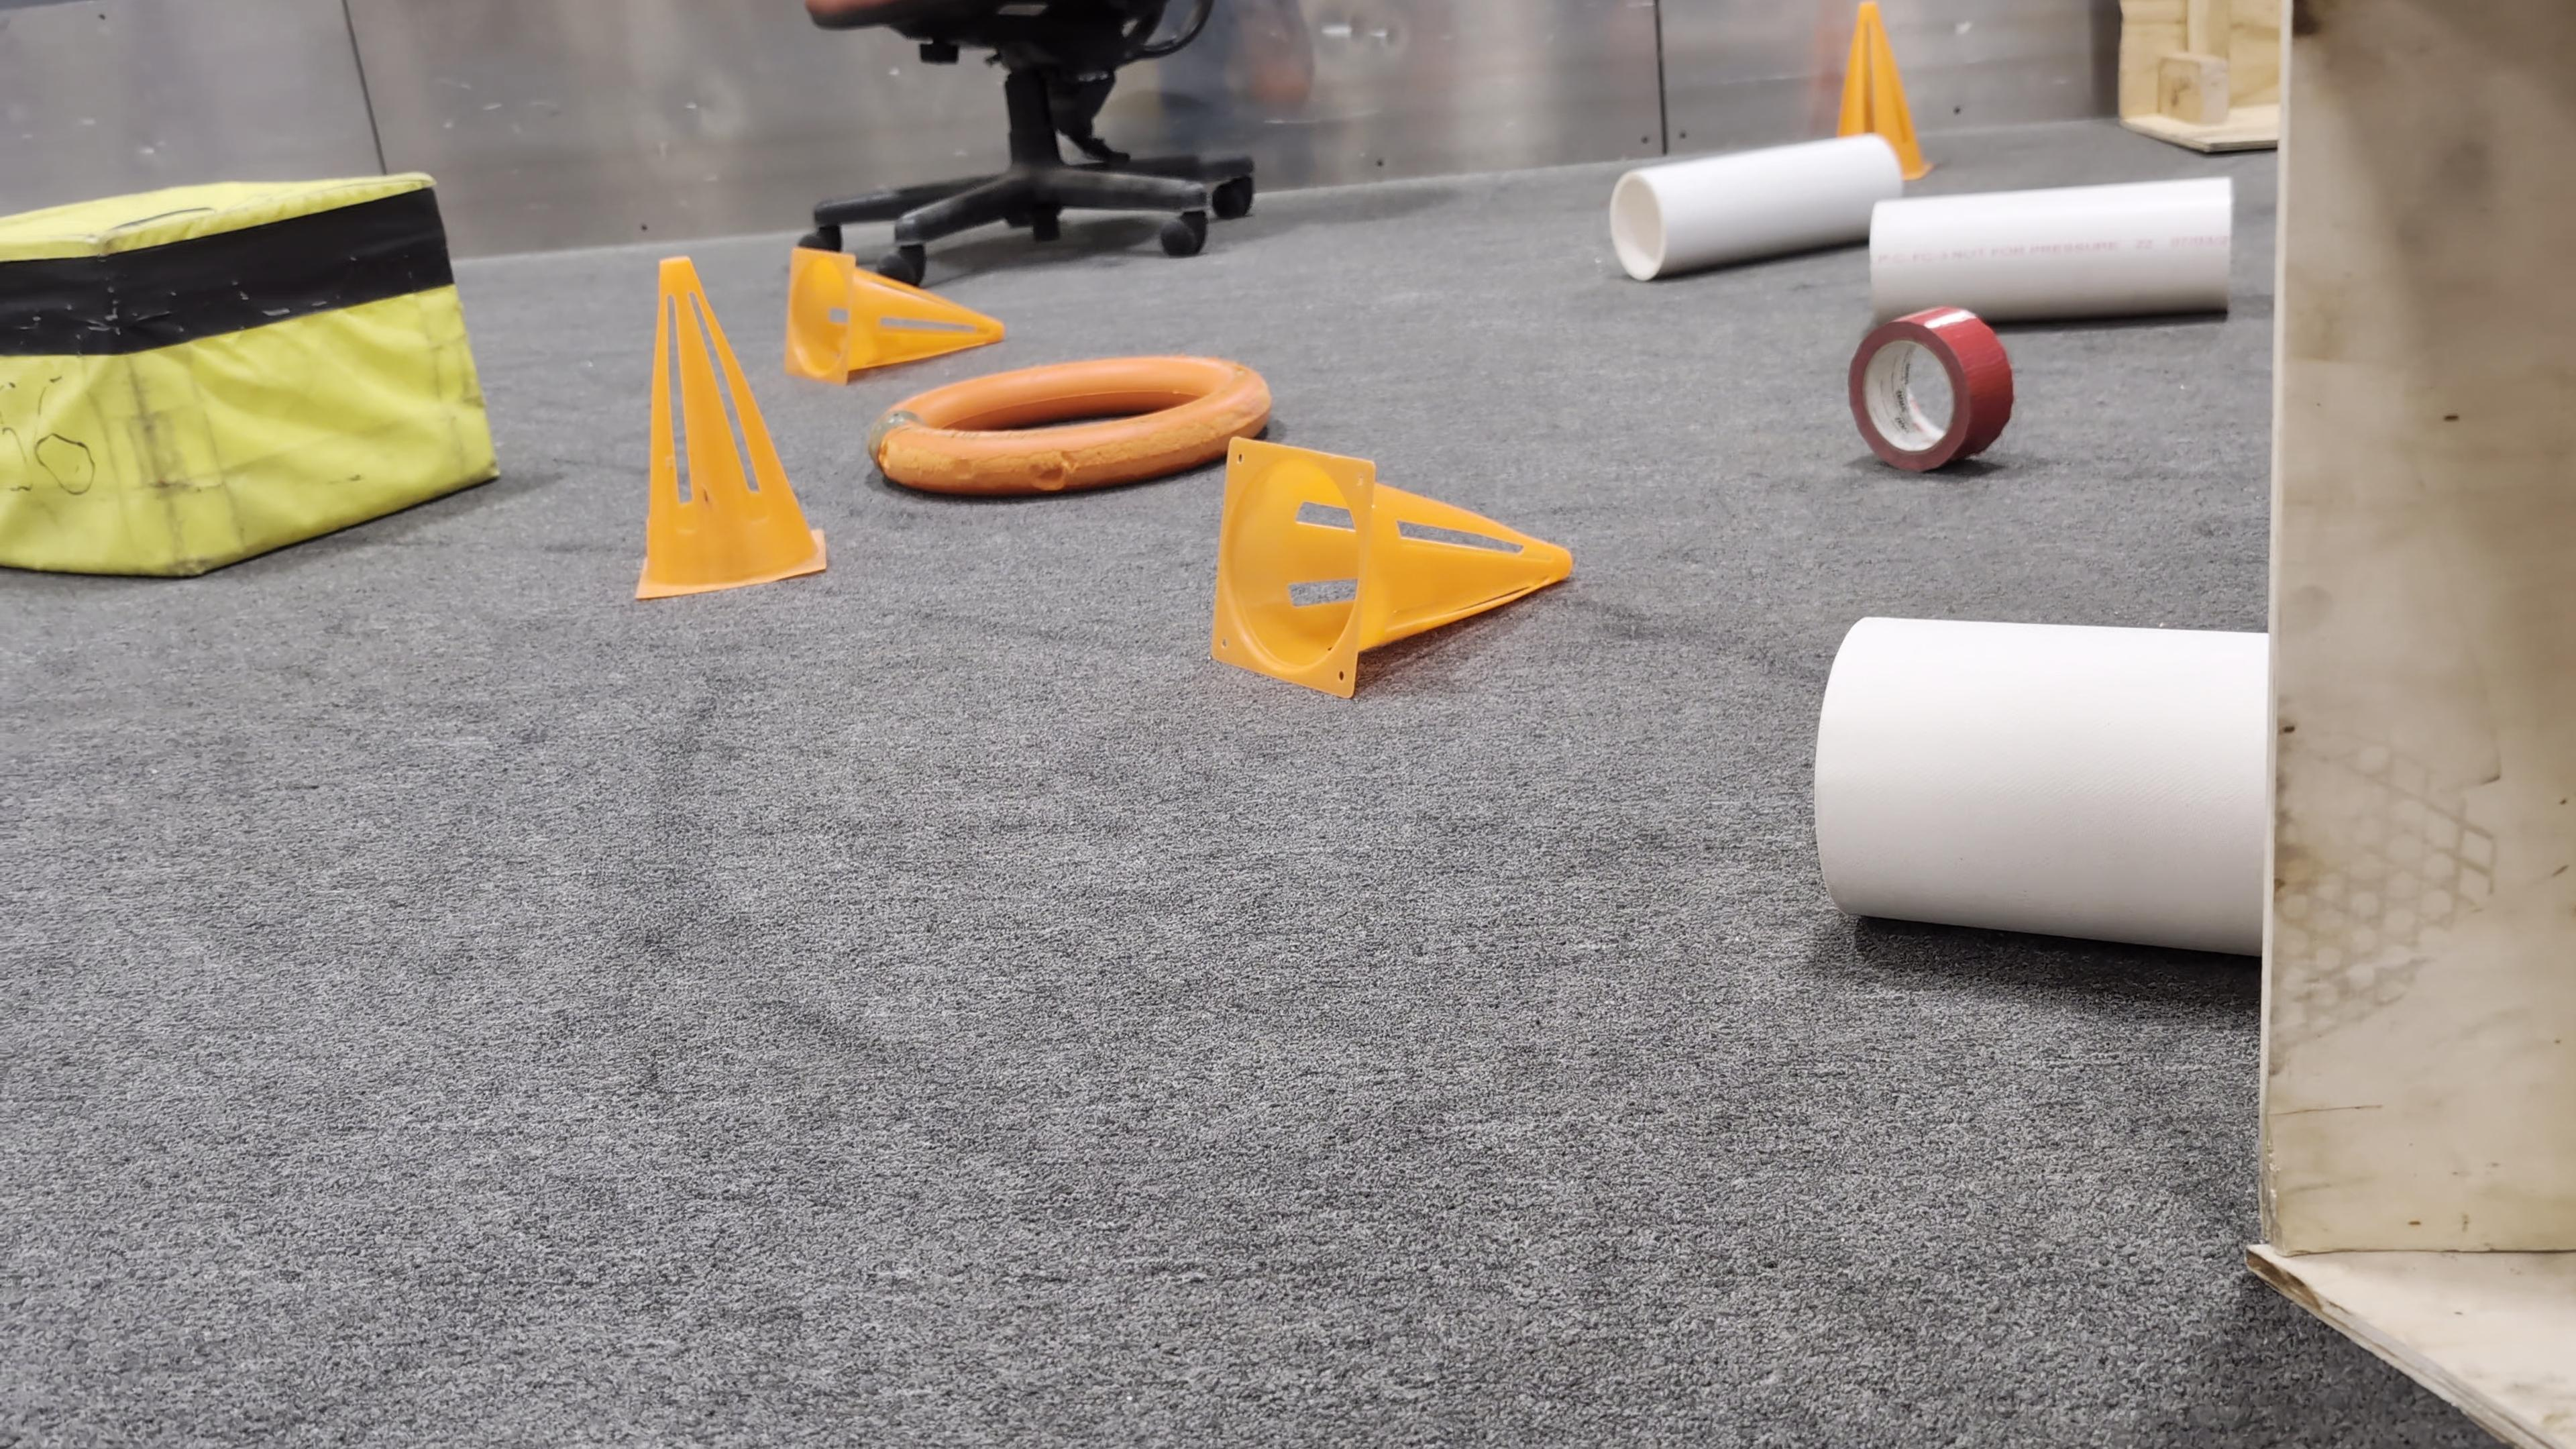coral: (1865, 172, 2249, 326), (1608, 127, 1904, 283)
